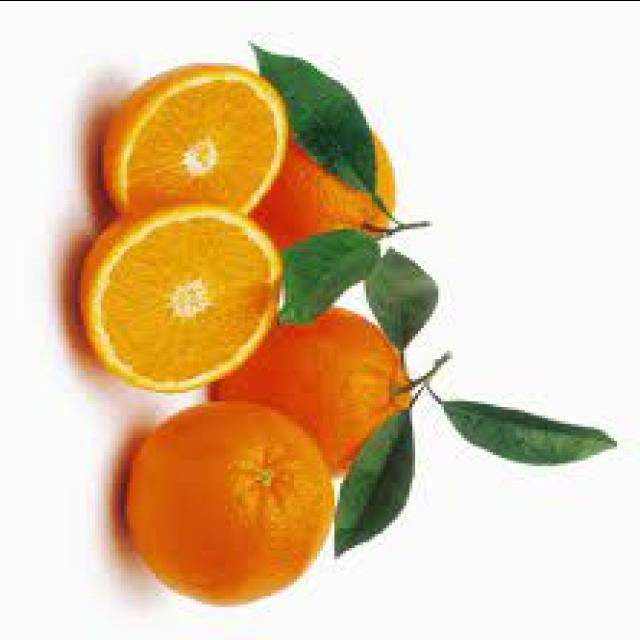orange: (117, 392, 340, 603), (88, 202, 276, 388)
